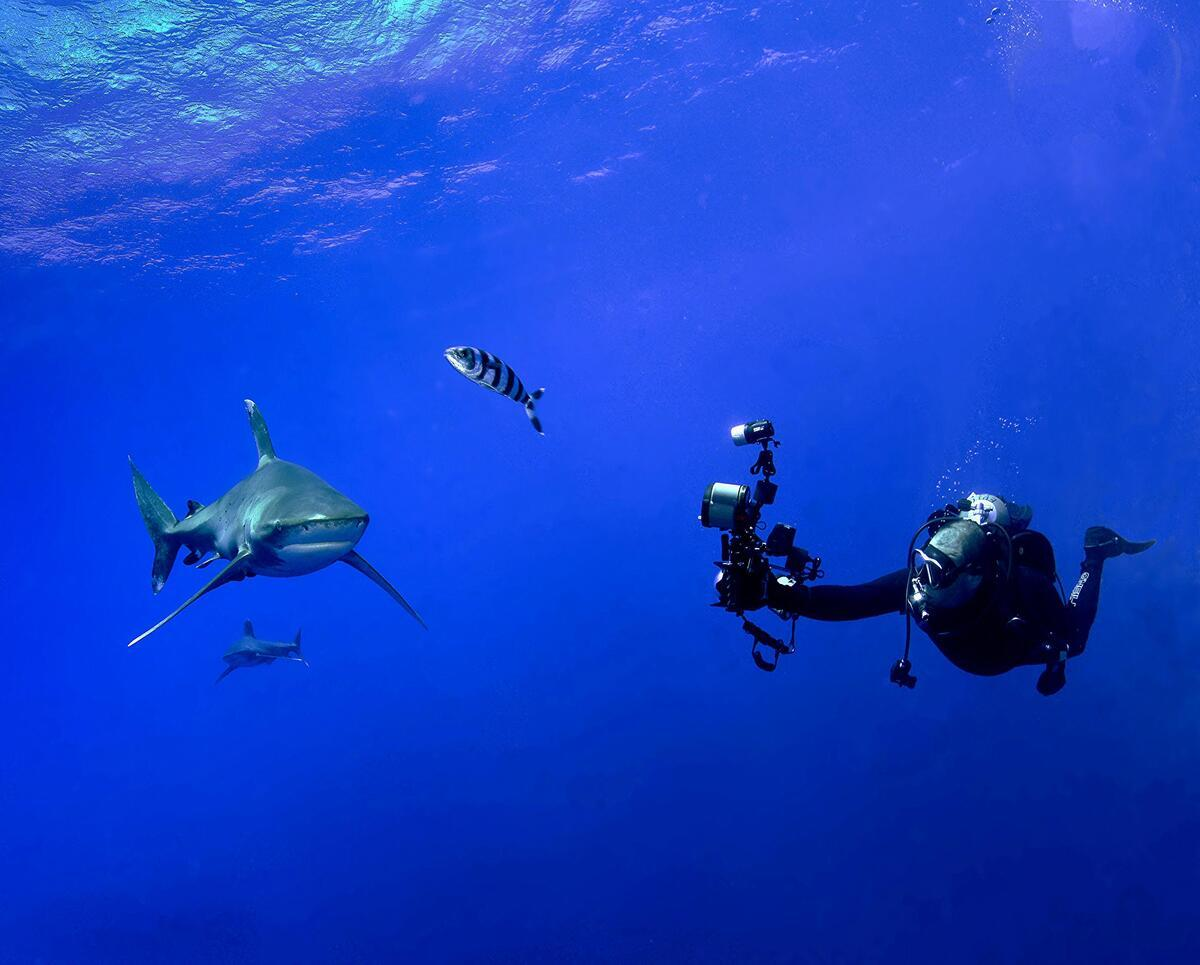shark: (127, 397, 433, 649), (216, 621, 310, 681)
